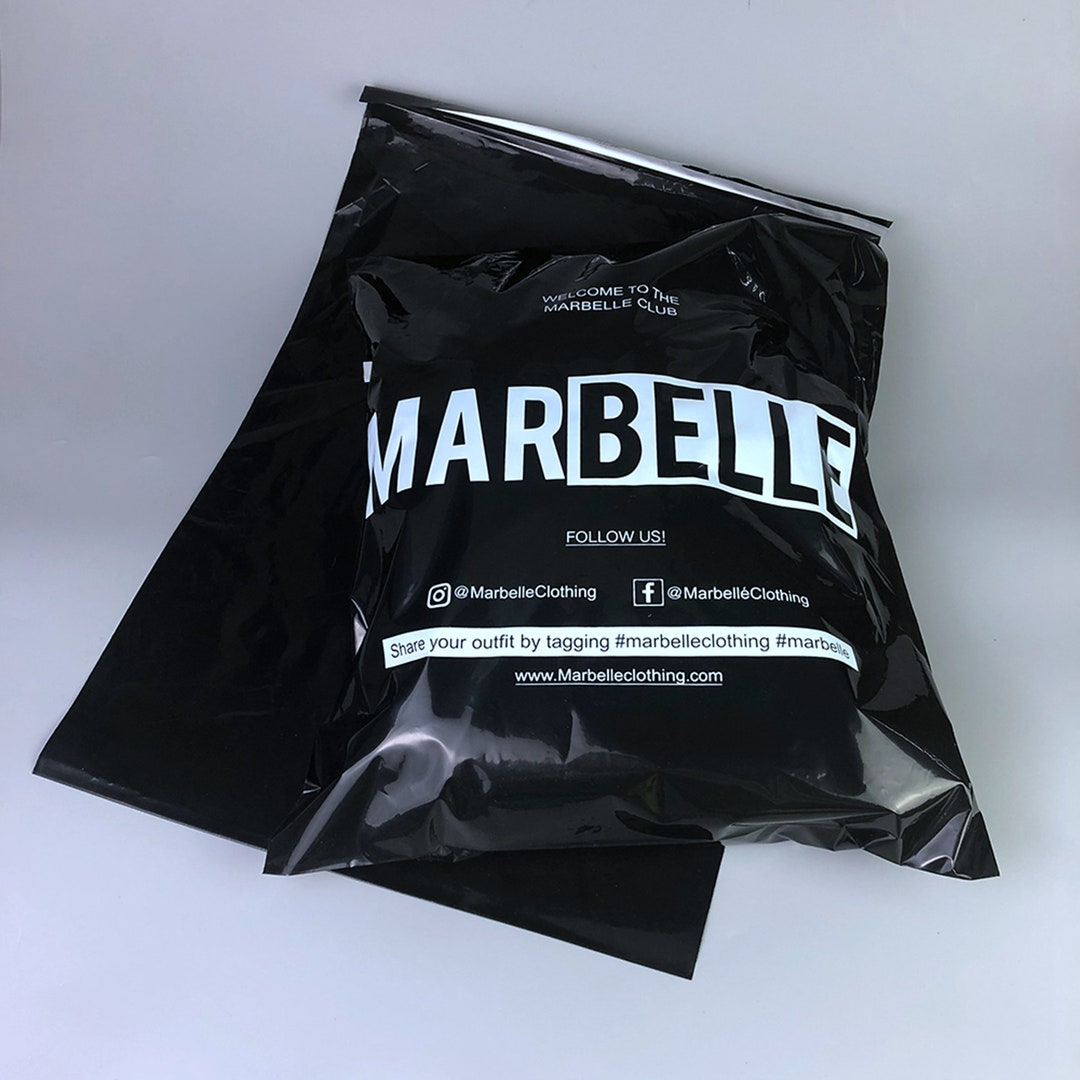Parcel: (35, 89, 998, 977)
